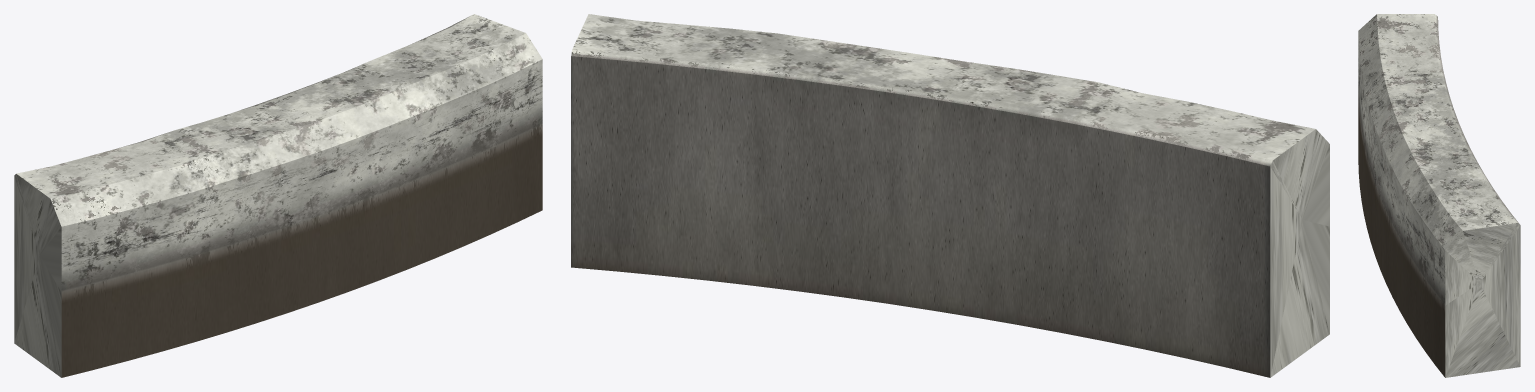
The model's file is curb_curve_r3_white_web.glb.
3 views of the same model, side by side, from view 1: azimuth 30°, elevation 25°; view 2: azimuth 150°, elevation 25°; view 3: azimuth 270°, elevation 25° (orthographic). The views are drawn at different scales.
Visible parts, largest first — view 1: curb_curve_r3_white_Mesh; view 2: curb_curve_r3_white_Mesh; view 3: curb_curve_r3_white_Mesh.
Part boxes in pixels (x1=…): curb_curve_r3_white_Mesh: x1=14, y1=14, x2=542, y2=377; curb_curve_r3_white_Mesh: x1=571, y1=14, x2=1329, y2=377; curb_curve_r3_white_Mesh: x1=1358, y1=14, x2=1520, y2=377.
Bounding box in the file's own units: 0.9769 × 0.3 × 0.3053.
Materials: 1 (1 with a texture image).
